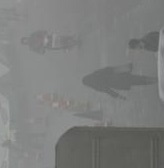person: (81, 62, 157, 102), (19, 29, 82, 54), (127, 29, 160, 56)
